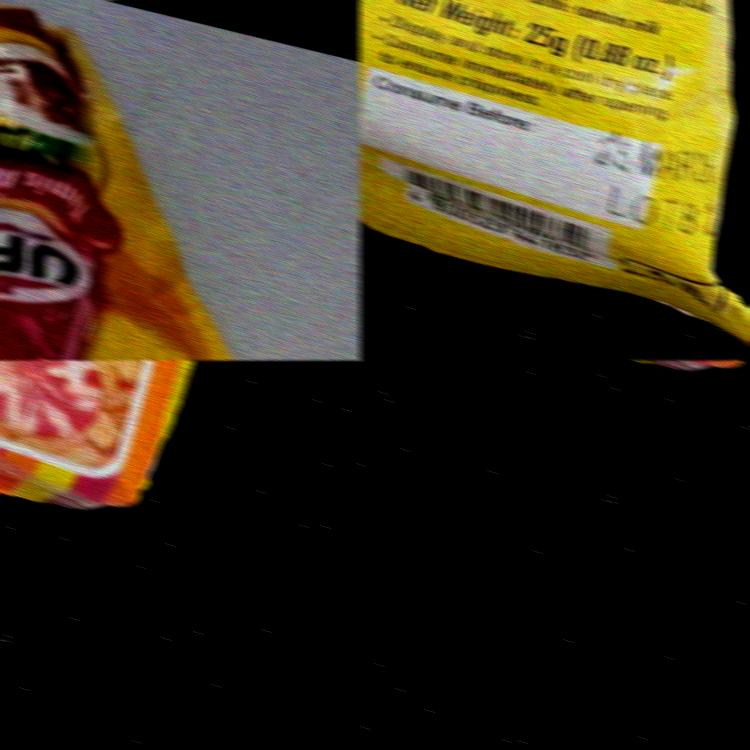Tomi: (359, 0, 750, 347)
ketchup UFC: (0, 0, 361, 360)
oishi crackers: (0, 360, 196, 509)
